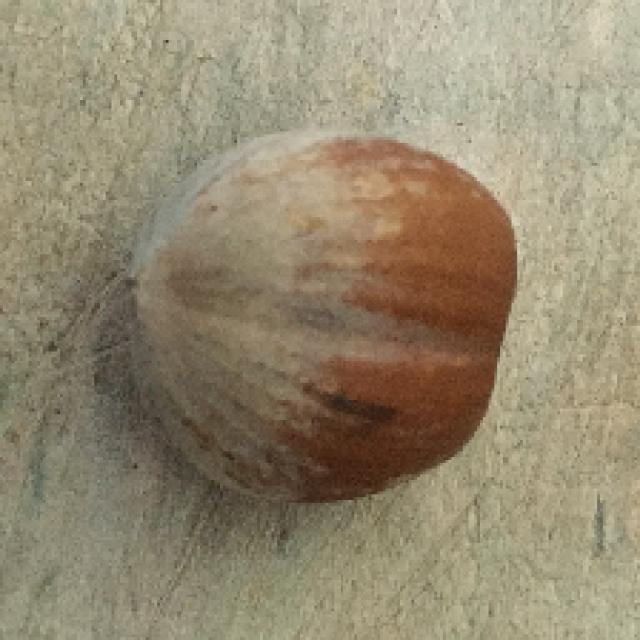qualityHazelnut: (125, 121, 521, 508)
